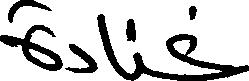X: (166, 1, 248, 80), (0, 0, 59, 75), (101, 9, 118, 78), (71, 39, 93, 77), (134, 18, 141, 80)
